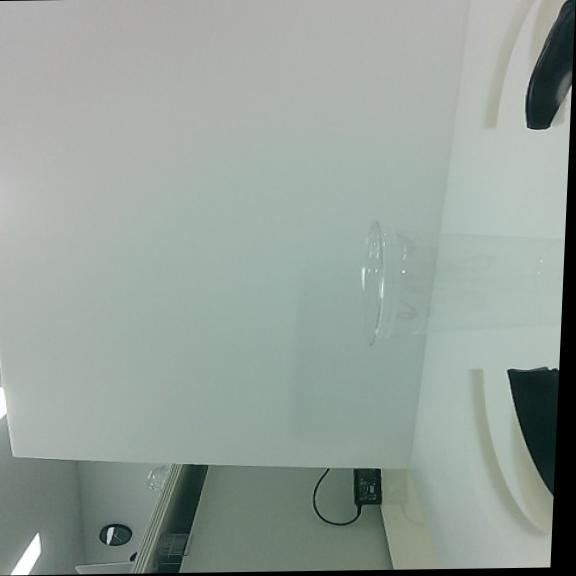Plastik: (363, 222, 563, 340)
